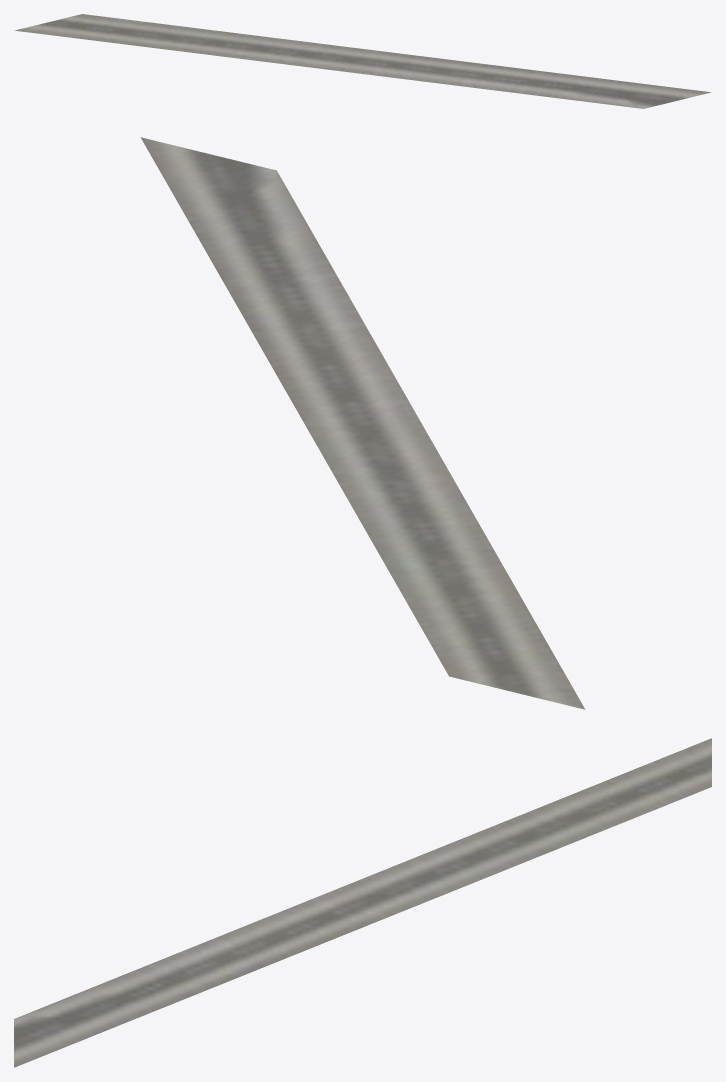
File: LSZH_0_2.glb
3 renders of one model, top to bottom at view 1: azimuth 30°, elevation 25°; view 2: azimuth 150°, elevation 25°; view 3: azimuth 270°, elevation 25°, orthographic. The views are drawn at different scales.
Visible parts, largest first — view 1: pavement_LSZH_pavement_5368_2516, pavement_LSZH_pavement_5367_2516; view 2: pavement_LSZH_pavement_5368_2516, pavement_LSZH_pavement_5367_2516; view 3: pavement_LSZH_pavement_5368_2516, pavement_LSZH_pavement_5367_2516.
Part boxes in pixels (x1,y1,x2,y2): pavement_LSZH_pavement_5368_2516: (324,44,710,108); pavement_LSZH_pavement_5367_2516: (15,14,364,74); pavement_LSZH_pavement_5368_2516: (140,137,412,469); pavement_LSZH_pavement_5367_2516: (330,409,585,709); pavement_LSZH_pavement_5368_2516: (14,894,443,1067); pavement_LSZH_pavement_5367_2516: (323,738,711,894).
Bounding box in the file's own units: 559 × 0 × 500.
Materials: 1 (1 with a texture image).
